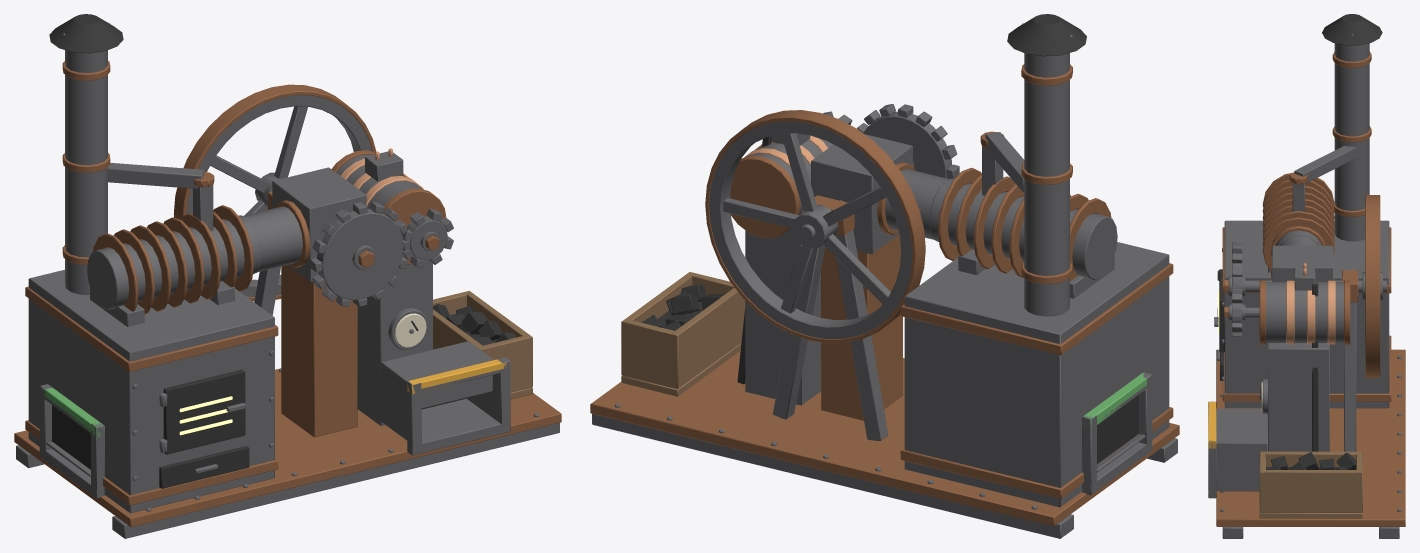
Rendered from feCoalGenerator.fbx.
3 renders of one model, left to right at view 1: azimuth 30°, elevation 25°; view 2: azimuth 150°, elevation 25°; view 3: azimuth 270°, elevation 25°, orthographic. The views are drawn at different scales.
Parts seen in each view (by area): view 1: feCoalGen_Base, feCoalGen_Crank, feCoalGen_DynamoRotor; view 2: feCoalGen_Base, feCoalGen_Crank; view 3: feCoalGen_Base, feCoalGen_Crank, feCoalGen_DynamoRotor.
Part boxes in pixels (<box>): feCoalGen_Base: <box>14,14,561,538</box>; feCoalGen_Crank: <box>174,84,410,307</box>; feCoalGen_DynamoRotor: <box>401,208,453,267</box>; feCoalGen_Base: <box>590,14,1179,538</box>; feCoalGen_Crank: <box>705,104,959,343</box>; feCoalGen_Base: <box>1208,14,1405,538</box>; feCoalGen_Crank: <box>1224,195,1387,377</box>; feCoalGen_DynamoRotor: <box>1224,288,1259,336</box>.
Bounding box in the file's own units: 1.99 × 1.96 × 0.96.
